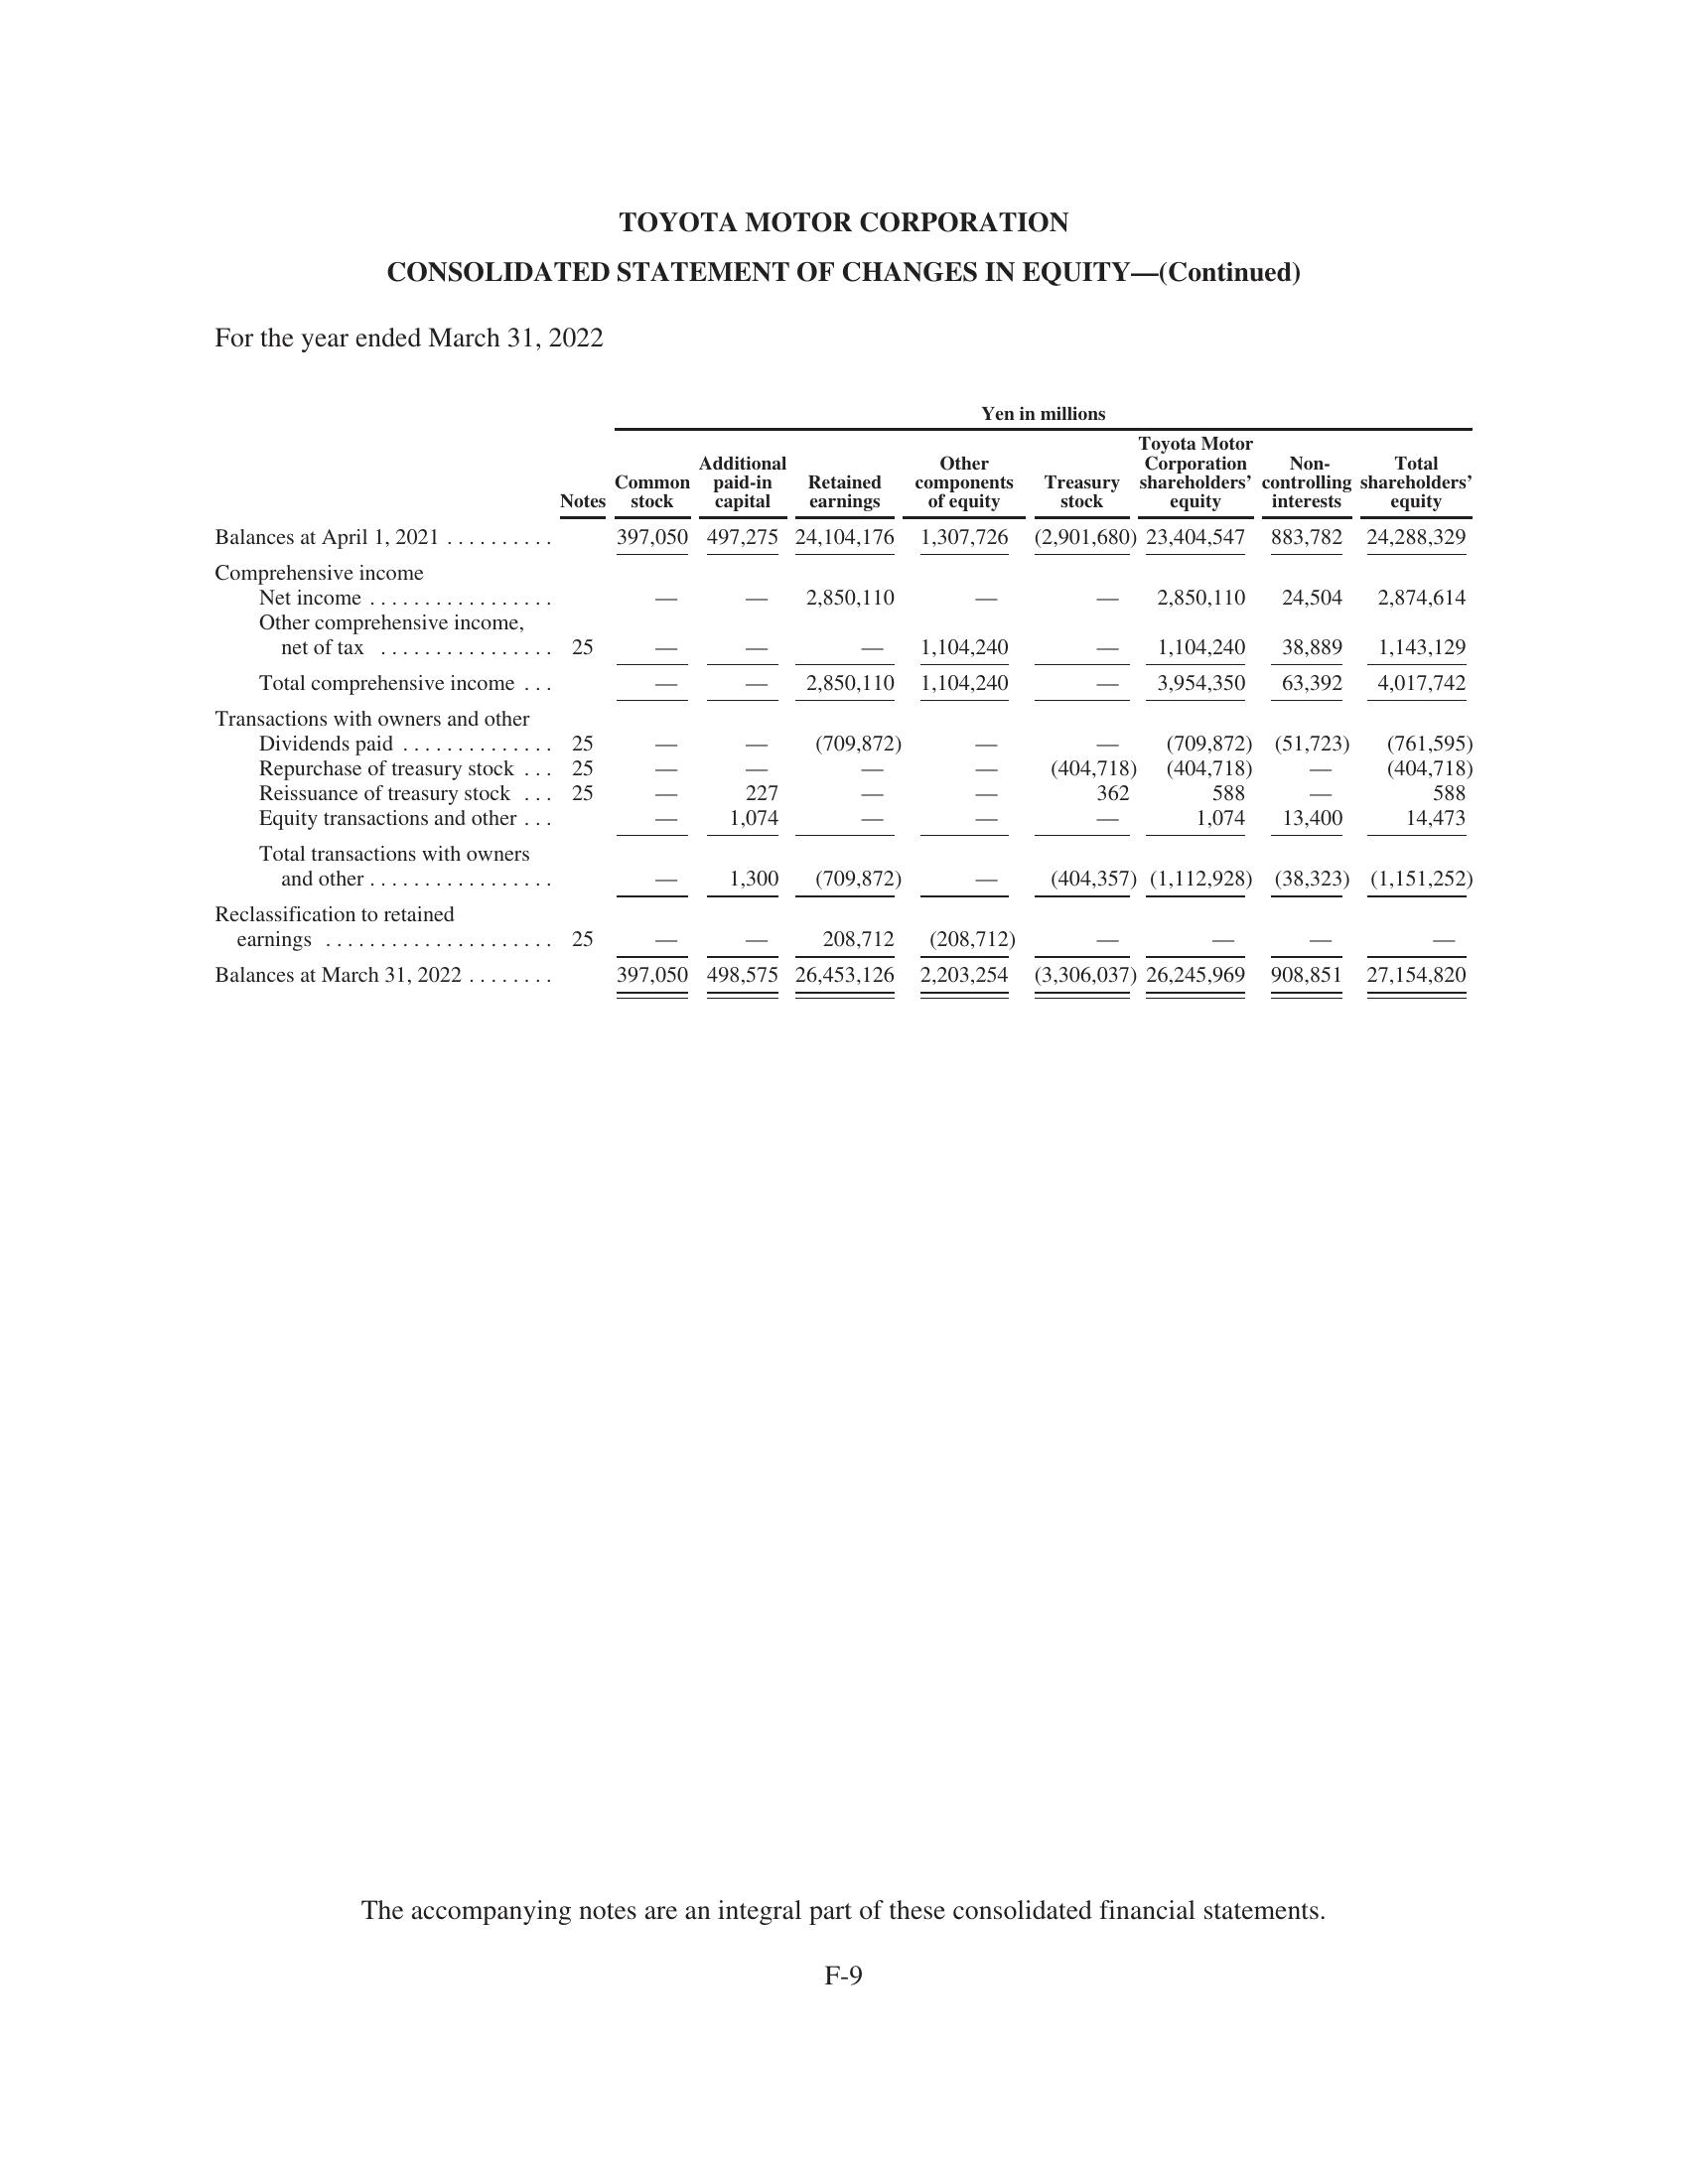Footer: (0, 1959, 1688, 2184)
Header: (0, 0, 1688, 175)
Table: (167, 370, 1500, 1044)
